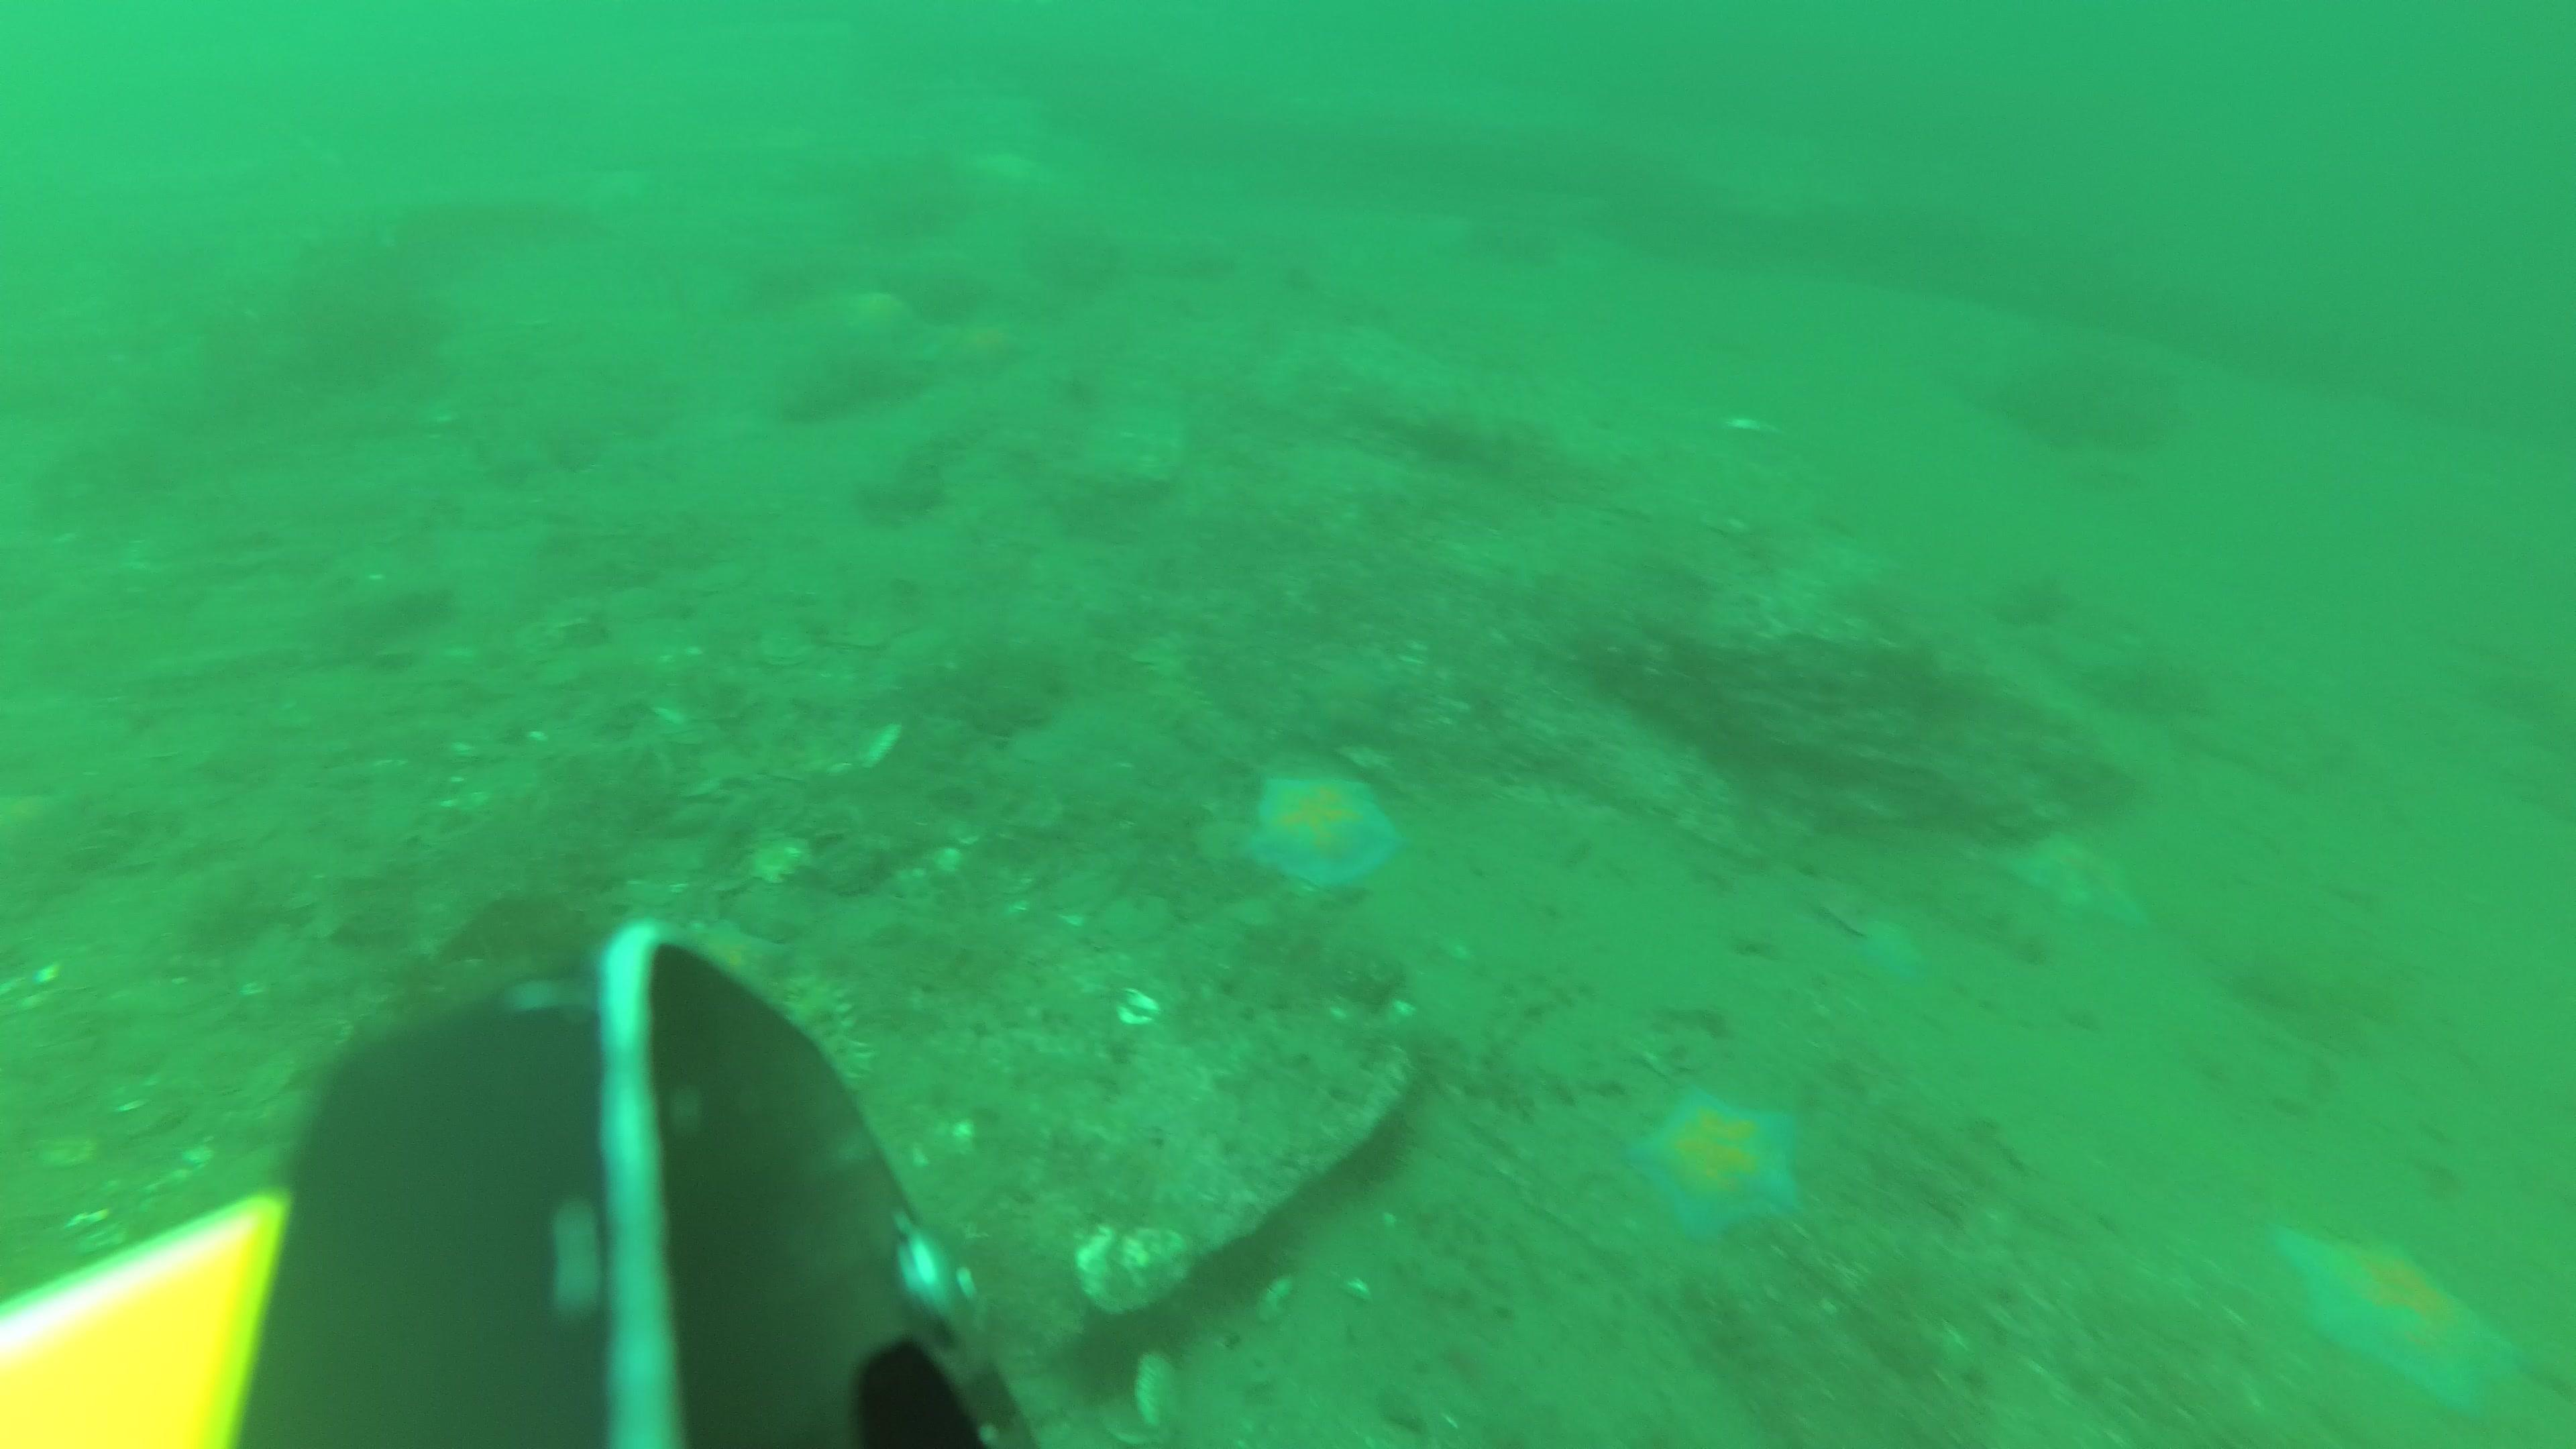holothurian: (784, 970, 870, 1132)
scallop: (1108, 1350, 1187, 1447)
starfish: (2279, 1223, 2507, 1414), (1633, 1088, 1799, 1240), (1246, 777, 1401, 895), (2003, 826, 2143, 938), (676, 916, 787, 1024), (833, 290, 913, 352), (938, 317, 1024, 370)
